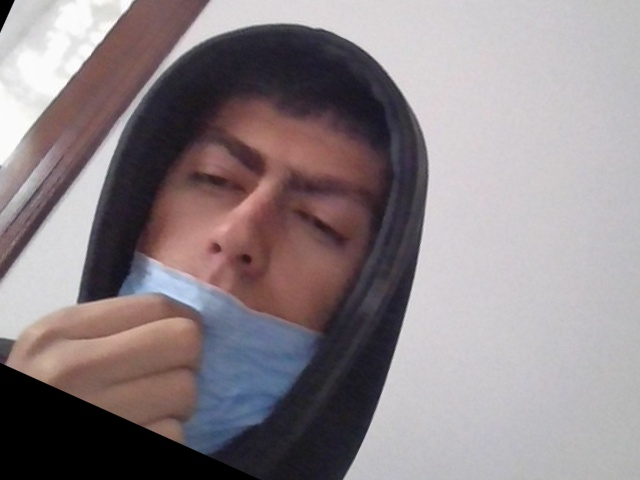mask_weared_incorrect: (121, 67, 383, 450)
